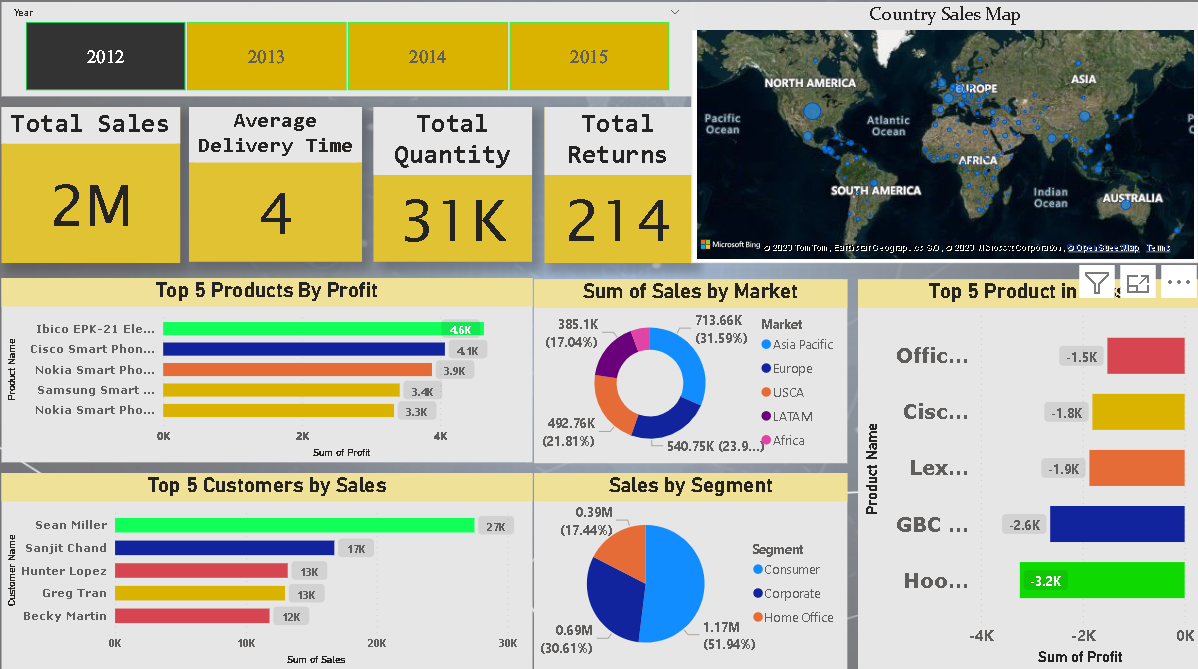

Layout of this report page (visuals, bound fields, positions):
{"tool":"powerbi","page":{"name":"Page 1","canvas":[1280,720],"ordinal":0},"visuals":[{"type":"card","title":"Total Sales","fields":{"Values":["Sum(Orders.Sales)"]},"box":[0,151,200.3,146.2],"z":0},{"type":"slicer","fields":{"Values":["Orders.Year"]},"box":[0,69.9,739.1,79.5],"z":1000},{"type":"card","title":"Average Delivery Time","fields":{"Values":["Avg(Orders.Delivery Time)"]},"box":[202,151,181.2,146.2],"z":2000},{"type":"card","title":"Total Quantity","fields":{"Values":["Sum(Orders.Quantity)"]},"box":[385,151,176.4,146.2],"z":3000},{"type":"card","title":"Total Returns","fields":{"Values":["Sum(Returns.Is Return)"]},"box":[564,151,174.8,146.2],"z":4000},{"type":"clusteredBarChart","title":"Top 5 Products By Profit","fields":{"Category":["Orders.Product Name"],"Y":["Sum(Orders.Profit)"]},"box":[0,300.4,573.8,208.2],"z":5000},{"type":"clusteredBarChart","title":" Top 5 Customers by Sales","fields":{"Category":["Orders.Customer Name"],"Y":["Sum(Orders.Sales)"]},"box":[0,511.8,573.8,208.2],"z":6000},{"type":"pieChart","title":" Sales by Segment","fields":{"Category":["Orders.Segment"],"Y":["Sum(Orders.Sales)"]},"box":[575.5,511.3,332.1,209.4],"z":7000},{"type":"donutChart","fields":{"Category":["Orders.Market"],"Y":["Sum(Orders.Sales)"]},"box":[575.4,300.4,332.2,208],"z":8000},{"type":"clusteredBarChart","title":"Top 5 Product in Loss","fields":{"Category":["Orders.Product Name"],"Y":["Sum(Orders.Profit)"]},"box":[909.1,300.4,370.3,419.6],"z":9000},{"type":"map","title":" Country Sales Map","fields":{"Category":["Orders.Country"],"Size":["Sum(Orders.Sales)"]},"box":[741,0,537.2,297],"z":10000},{"type":"textbox","box":[0,0,740.7,68.3],"z":11000}]}

Visuals, with their boxes in screenshot pixels (x1, y1, x2, y2), scaled from the page's 1280x720 canvas onto the 1198x669 screenshot:
"Total Sales" card: rect(0, 140, 187, 276)
slicer - Orders.Year: rect(0, 65, 692, 139)
"Average Delivery Time" card: rect(189, 140, 359, 276)
"Total Quantity" card: rect(360, 140, 525, 276)
"Total Returns" card: rect(528, 140, 691, 276)
"Top 5 Products By Profit" clusteredBarChart: rect(0, 279, 537, 473)
" Top 5 Customers by Sales" clusteredBarChart: rect(0, 476, 537, 668)
" Sales by Segment" pieChart: rect(539, 475, 849, 668)
donutChart - Orders.Market x Sum(Orders.Sales): rect(539, 279, 849, 472)
"Top 5 Product in Loss" clusteredBarChart: rect(851, 279, 1197, 668)
" Country Sales Map" map: rect(694, 0, 1196, 276)
textbox: rect(0, 0, 693, 63)
